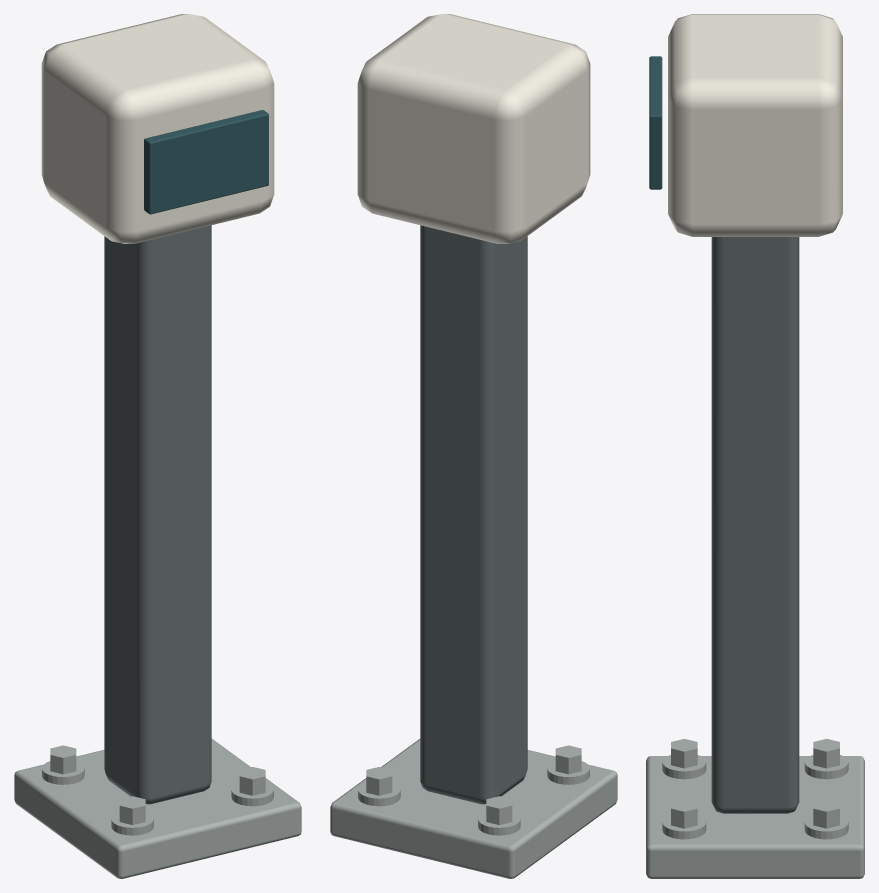
The model's file is automated-parking-and-vehicle-retrieval-automated-park-e08bbefe__30348.glb.
The picture shows the model from 3 angles, left to right: view 1: azimuth 30°, elevation 25°; view 2: azimuth 150°, elevation 25°; view 3: azimuth 270°, elevation 25°; orthographic projection. The views are drawn at different scales.
Parts seen in each view (by area): view 1: automated-parking-and-vehicle-retrieval-position-sensor-post (×4); view 2: automated-parking-and-vehicle-retrieval-position-sensor-post (×3); view 3: automated-parking-and-vehicle-retrieval-position-sensor-post (×4).
Boxes of the visible parts, <box> form: automated-parking-and-vehicle-retrieval-position-sensor-post (×4): <box>14,14,301,878</box>; automated-parking-and-vehicle-retrieval-position-sensor-post (×3): <box>330,14,617,878</box>; automated-parking-and-vehicle-retrieval-position-sensor-post (×4): <box>646,14,864,878</box>.
Size of the model in its own units: 0.2 by 0.795 by 0.2.
